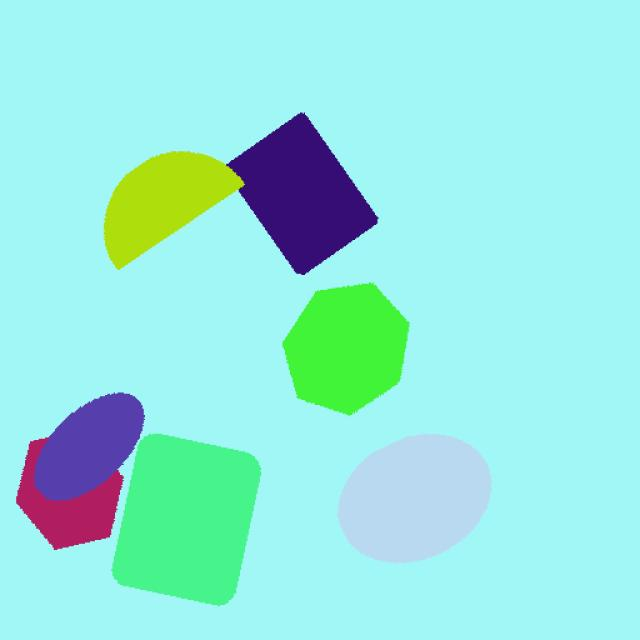Heptagon: (268, 278, 428, 421)
Hexagon: (12, 434, 126, 558)
Oval: (331, 428, 525, 580), (36, 385, 139, 504)
Rectangle: (214, 97, 398, 275)
Semicircle: (83, 143, 244, 268)
square: (108, 428, 266, 606)
